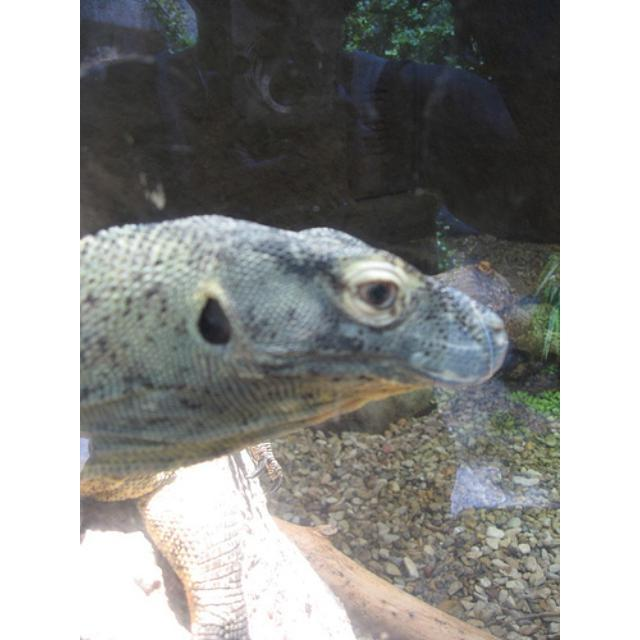KomodoDragon: (80, 208, 508, 636)
